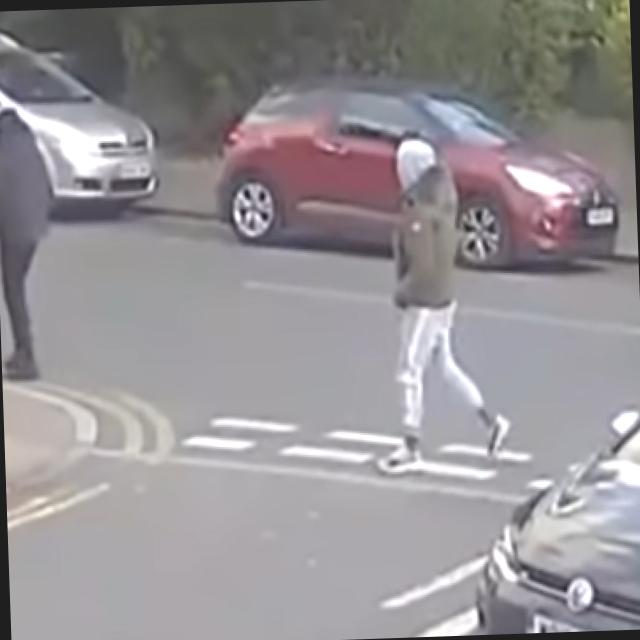person: (366, 128, 512, 472), (0, 102, 61, 381)
